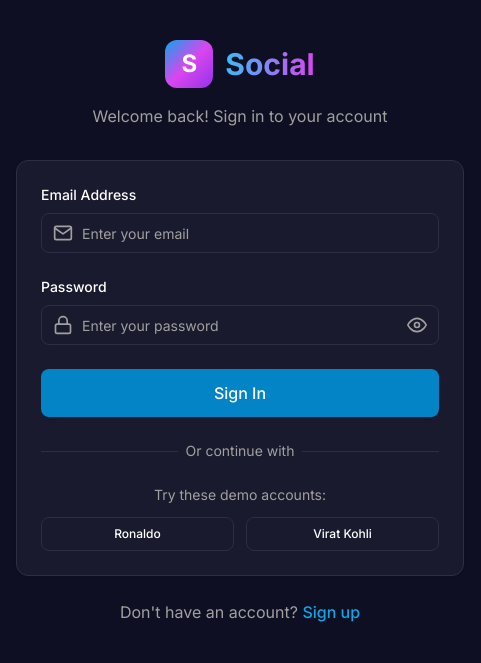
Test case: Authentication Flow › should show validation errors for empty form submission
Click the submit button: (240, 393) left=41, top=369, right=439, bottom=417
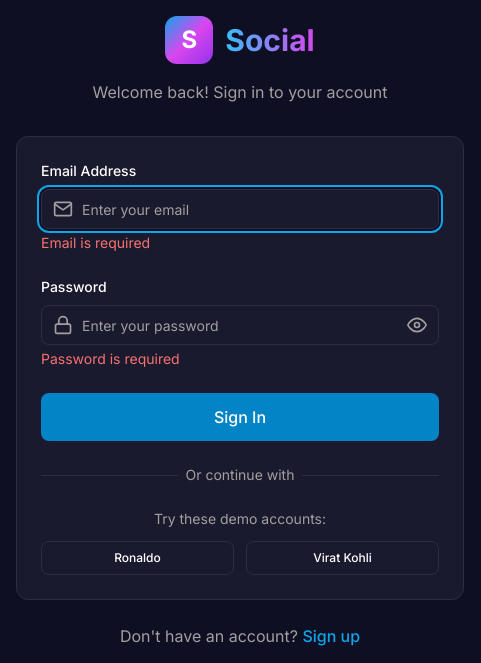
Result: the text "Email is required" is shown at left=41, top=234, right=150, bottom=251
Result: the text "Password is required" is shown at left=41, top=350, right=180, bottom=367
